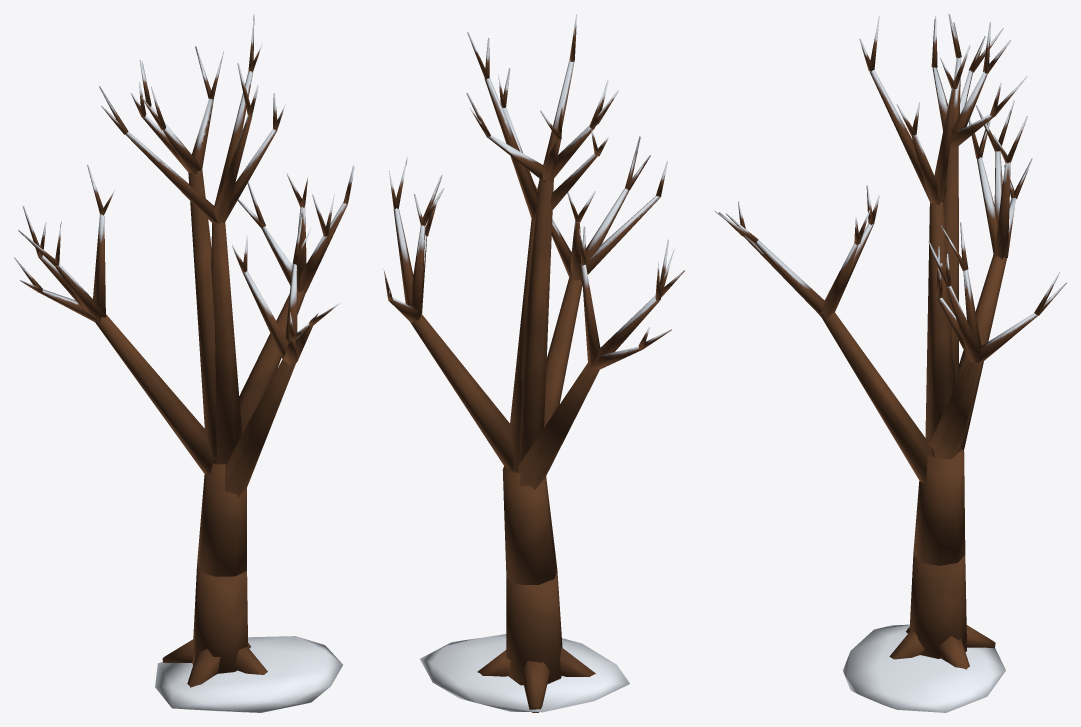
Rendered from season_decid_a_winter.glb.
The picture shows the model from 3 angles, left to right: view 1: azimuth 30°, elevation 25°; view 2: azimuth 150°, elevation 25°; view 3: azimuth 270°, elevation 25°; orthographic projection. The views are drawn at different scales.
Parts seen in each view (by area): view 1: basesnow; view 2: basesnow; view 3: basesnow.
Part boxes in pixels (box(x1,y1,x2,y2)): basesnow: box(14, 14, 354, 712); basesnow: box(383, 14, 684, 712); basesnow: box(714, 14, 1066, 712).
Bounding box in the file's own units: 2.09 × 4.14 × 2.03.
Materials: 1 (1 with a texture image).
